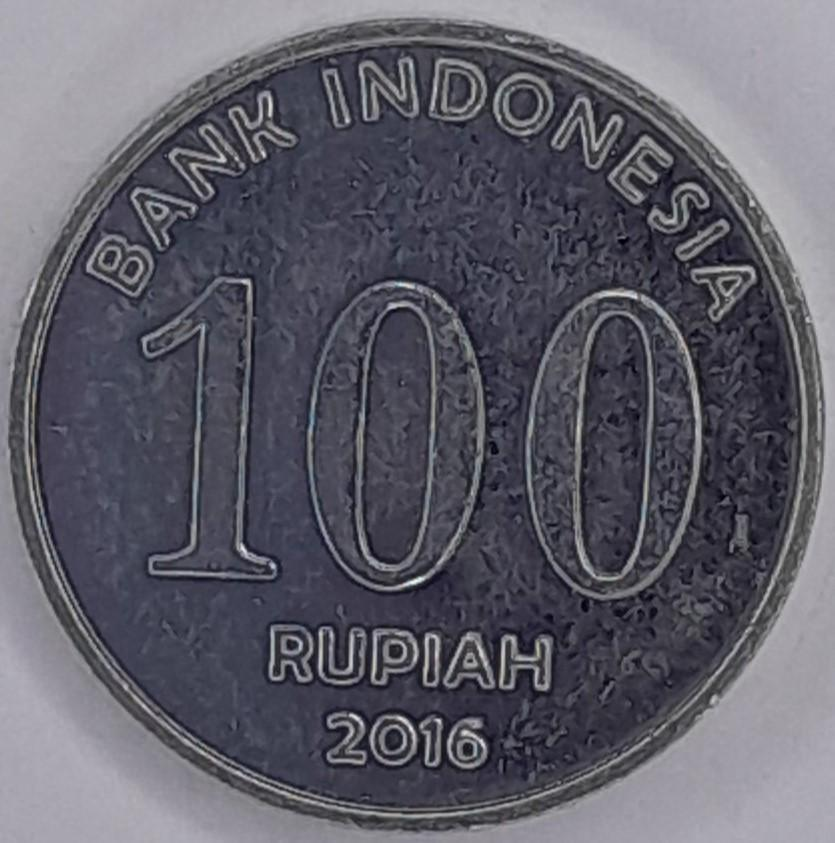coin_100_e2016: (3, 13, 829, 832)
